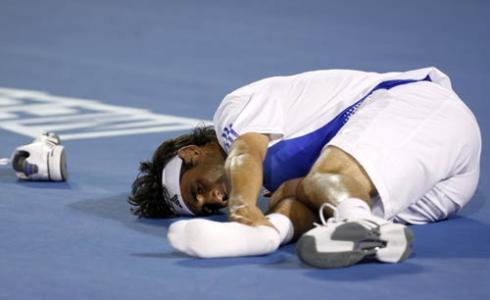down: (107, 59, 485, 267)
